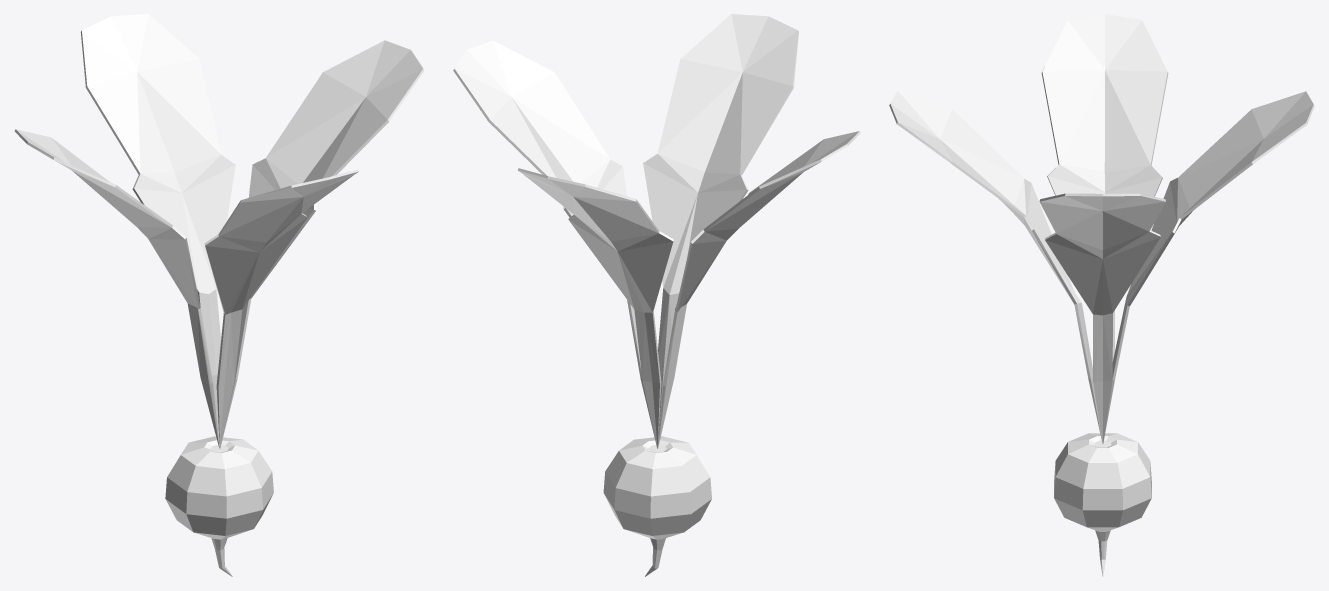
File: Crop_Radish_01.glb
3 views of the same model, side by side, from view 1: azimuth 30°, elevation 25°; view 2: azimuth 150°, elevation 25°; view 3: azimuth 270°, elevation 25° (orthographic). The views are drawn at different scales.
Visible parts, largest first — view 1: Crop_Radish_01; view 2: Crop_Radish_01; view 3: Crop_Radish_01.
Part boxes in pixels (bbox=[...]): Crop_Radish_01: bbox=[14, 14, 424, 576]; Crop_Radish_01: bbox=[453, 14, 860, 576]; Crop_Radish_01: bbox=[889, 14, 1314, 576].
Size of the model in its own units: 0.2494 by 0.3006 by 0.248.
Materials: 1 (1 with a texture image).
